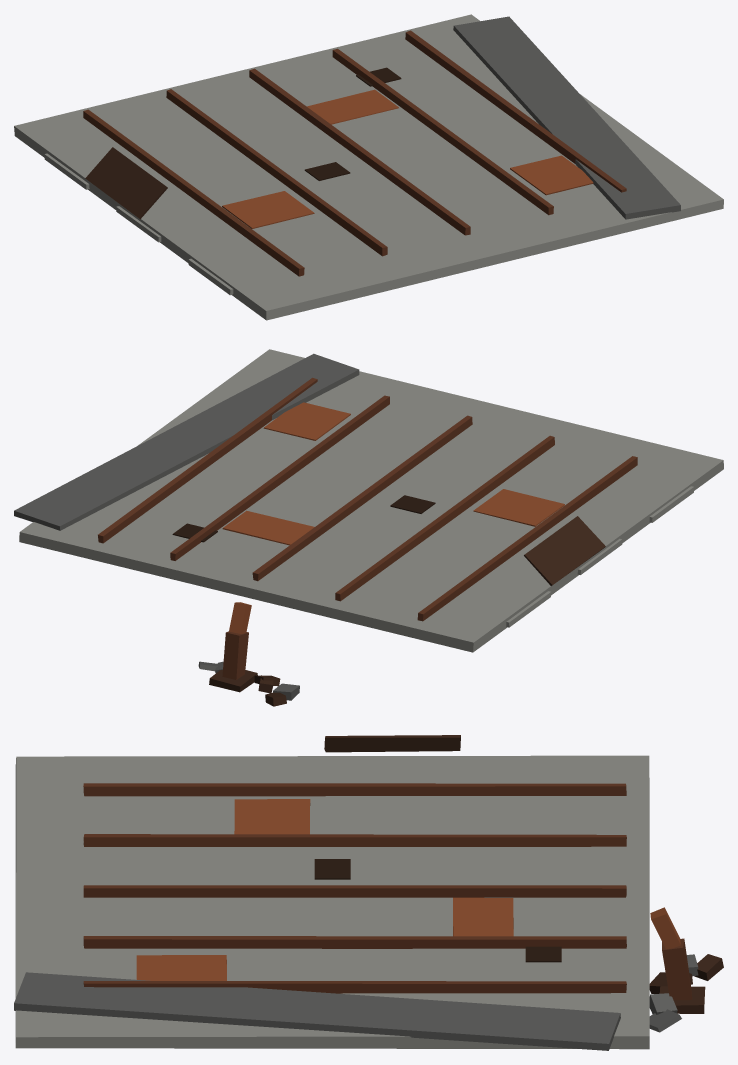
File: ship_wing.glb
3 views of the same model, one above another, from view 1: azimuth 30°, elevation 25°; view 2: azimuth 150°, elevation 25°; view 3: azimuth 270°, elevation 25° (orthographic). The views are drawn at different scales.
Parts seen in each view (by area): view 1: ship_wing; view 2: ship_wing; view 3: ship_wing.
Part boxes in pixels (x1,y1,x2,y2): ship_wing: (14, 14, 723, 320); ship_wing: (14, 349, 723, 706); ship_wing: (14, 735, 723, 1050).
Size of the model in its own units: 46.53 by 10.92 by 47.11.
